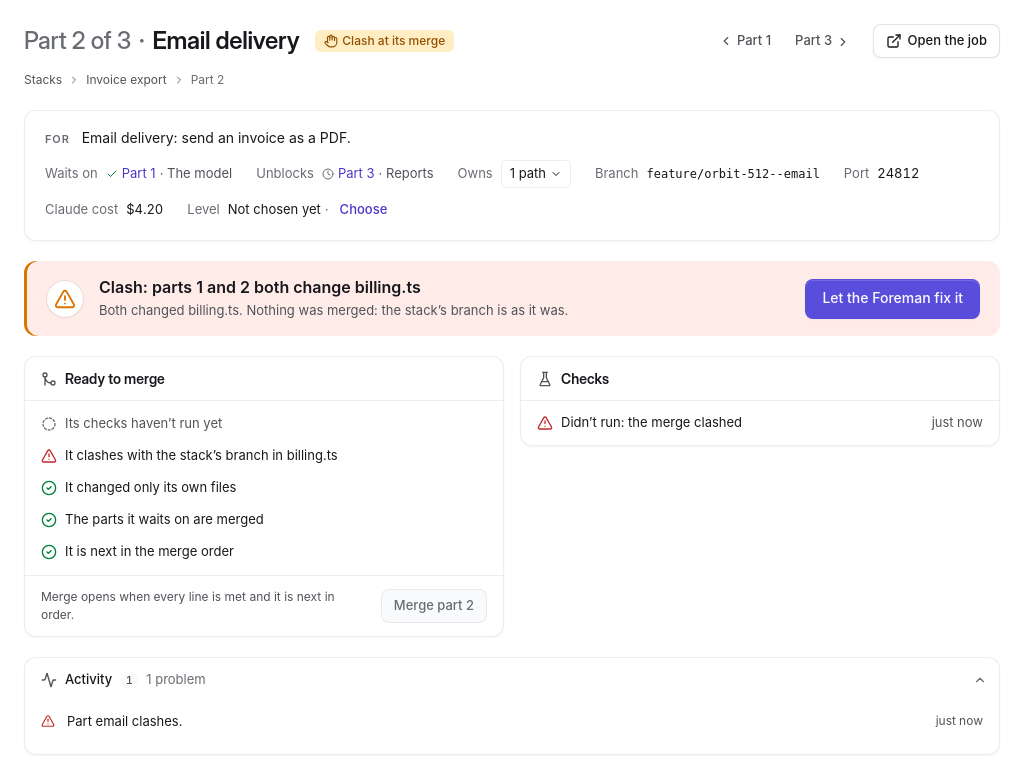
Test case: a part’s own page › the job’s level is a fact in the strip with Choose, its card in a sheet; the conversation holds only the conversation
expect the element named "Its place in the stack" shows "Level": met, box [187,201,220,217]
expect the element named "Its place in the stack" shows "Not chosen yet": met, box [228,201,321,217]
Click the button "Choose" at (363, 210), box [329,196,398,224]
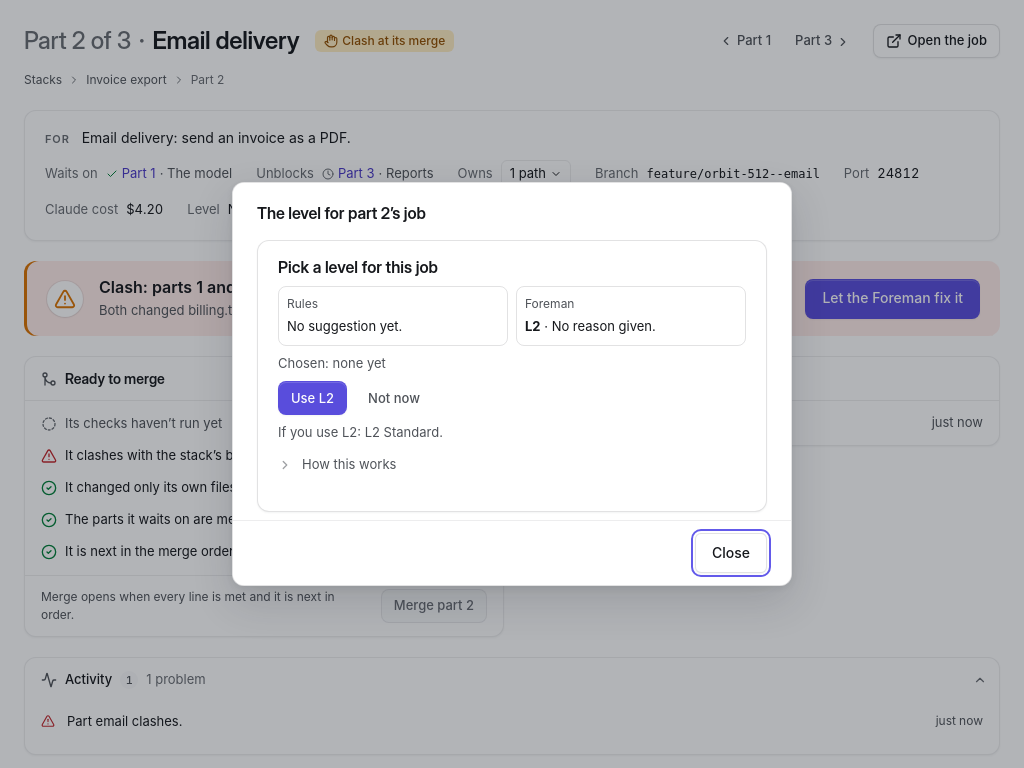
expect the heading "Pick a level for this job" is shown: met, box [278,257,438,277]
Click the button "Not now" at (394, 398), box [355,381,433,415]
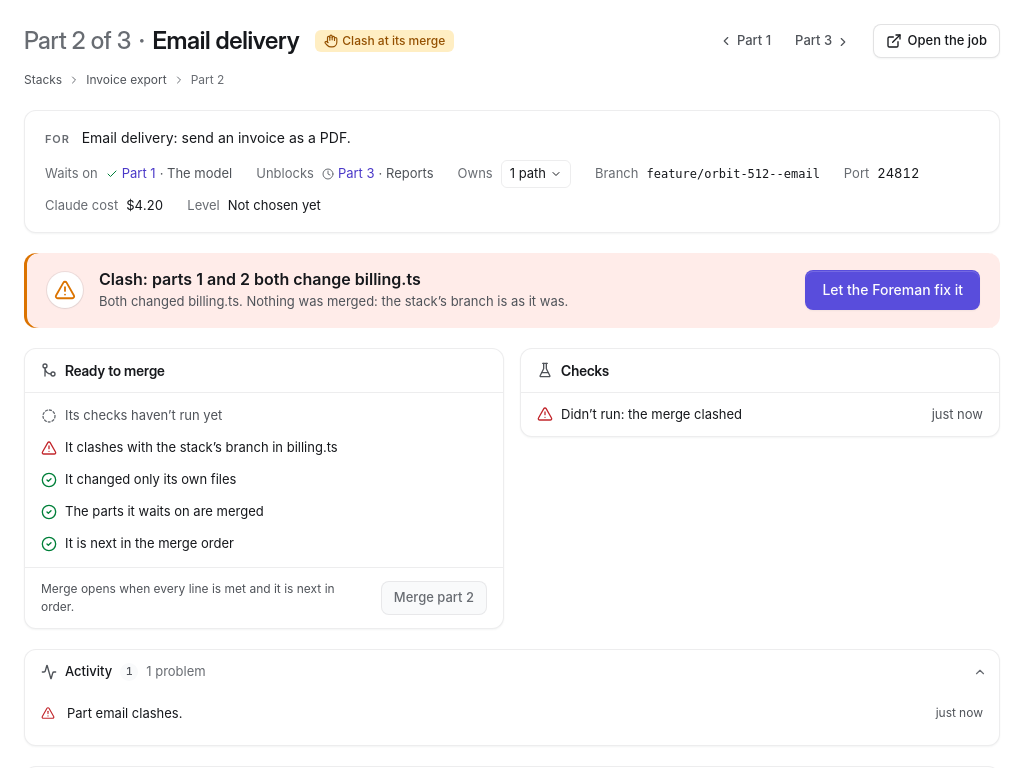
expect the heading "The level for part 2’s job" is gone: met
expect the button "Choose" is gone: met
